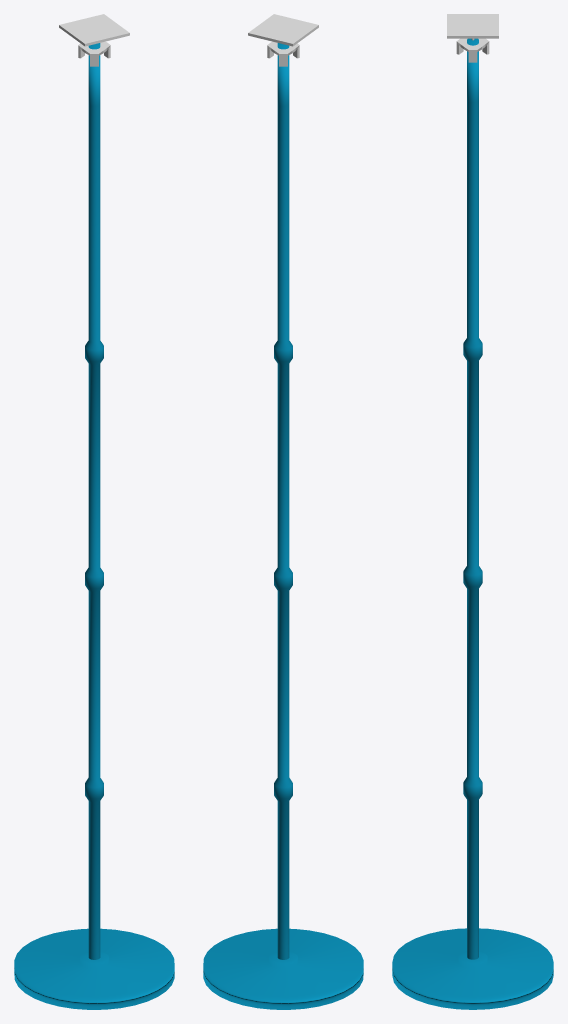
3 views of the same model, side by side, from view 1: azimuth 30°, elevation 25°; view 2: azimuth 150°, elevation 25°; view 3: azimuth 270°, elevation 25° (orthographic).
Visible parts, largest first — view 1: Cylinder014,_colorize_, Cylinder015,_colorize_, swivel_hanger_bracket; view 2: Cylinder014,_colorize_, Cylinder015,_colorize_, swivel_hanger_bracket; view 3: Cylinder014,_colorize_, Cylinder015,_colorize_, swivel_hanger_bracket.
Part boxes in pixels (box(x1,y1,x2,y2)): Cylinder014,_colorize_: box(85, 43, 103, 959); Cylinder015,_colorize_: box(14, 928, 174, 1009); swivel_hanger_bracket: box(59, 14, 129, 66); Cylinder014,_colorize_: box(274, 43, 292, 959); Cylinder015,_colorize_: box(203, 928, 363, 1009); swivel_hanger_bracket: box(248, 14, 318, 66); Cylinder014,_colorize_: box(463, 38, 482, 959); Cylinder015,_colorize_: box(392, 928, 553, 1009); swivel_hanger_bracket: box(447, 14, 498, 62).
Size of the model in its own units: 0.2972 by 1.93 by 0.2972.
